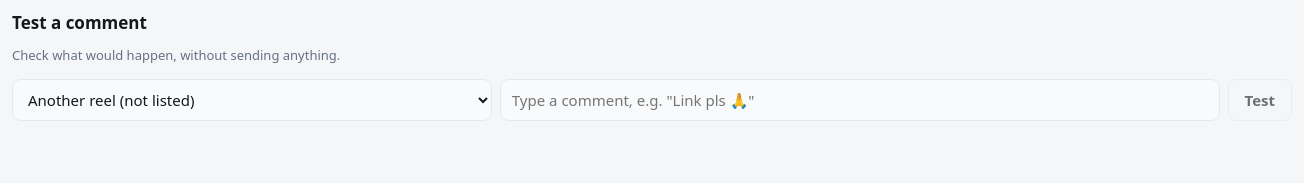
Scenario: says when nothing matches
The width and height of the screenshot is (1304, 183).
Type "nice video" into the field named "Comment text" at (860, 100), box [500,79,1220,121]
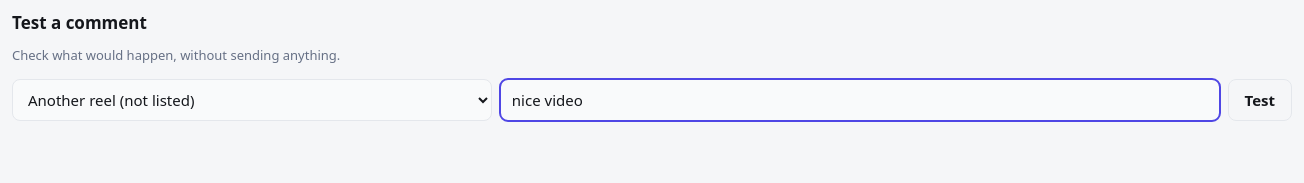
Click the button "Test" at (1260, 100), box [1228,79,1292,121]
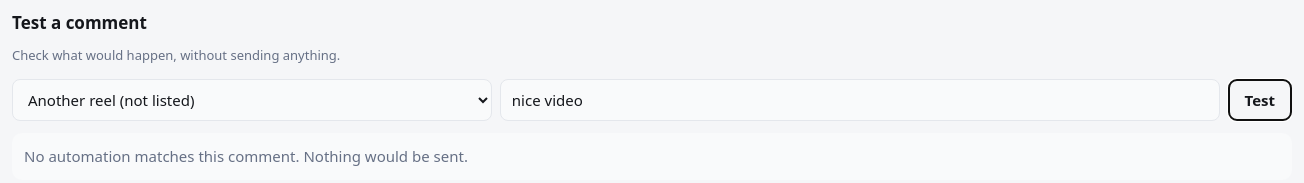
expect the message shows "No automation matches": met, box [24,146,468,166]
